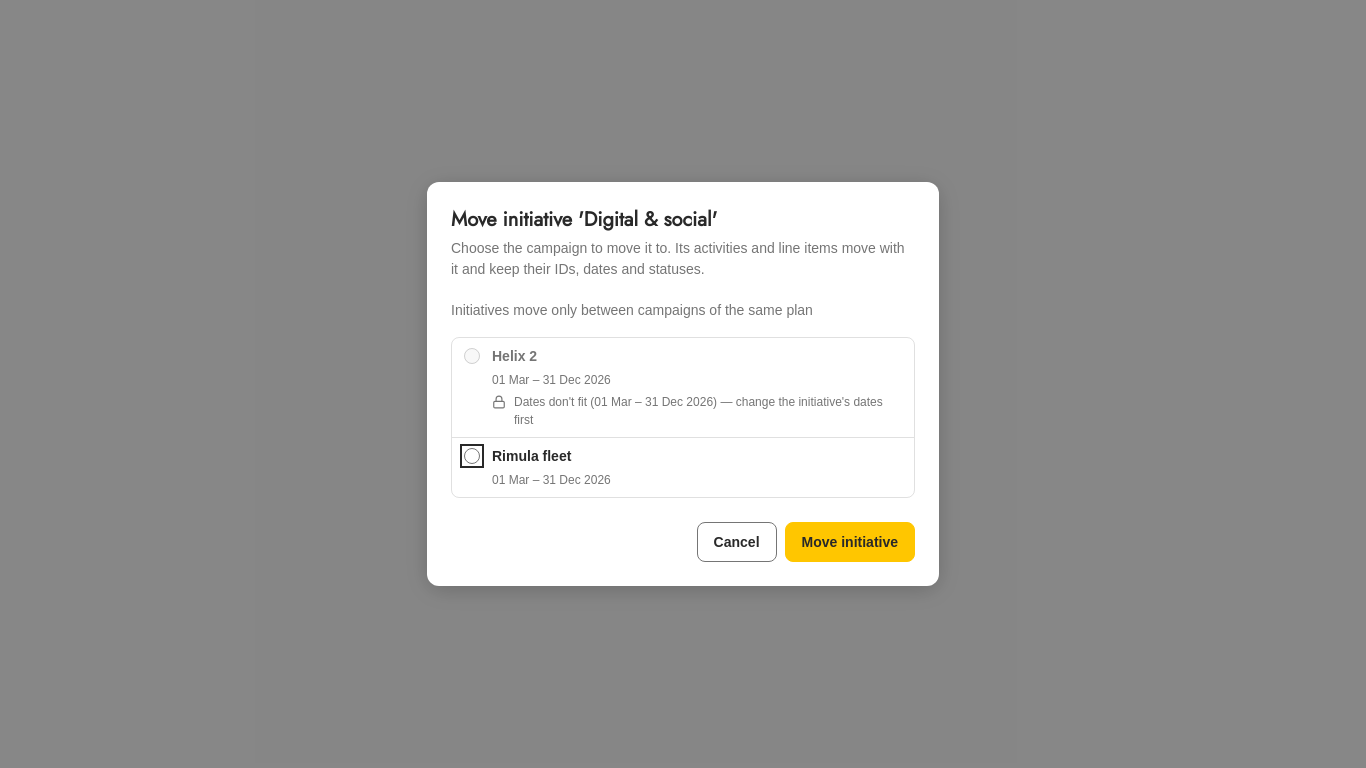
Test: MoveDialog (feature 005, US6#1–3, FR-023 – FR-025) › shows a refusal in the dialog and asks for the destinations again
The image size is (1366, 768).
Click the radio button labelled "Rimula fleet": (472, 456) [464,448,480,464]
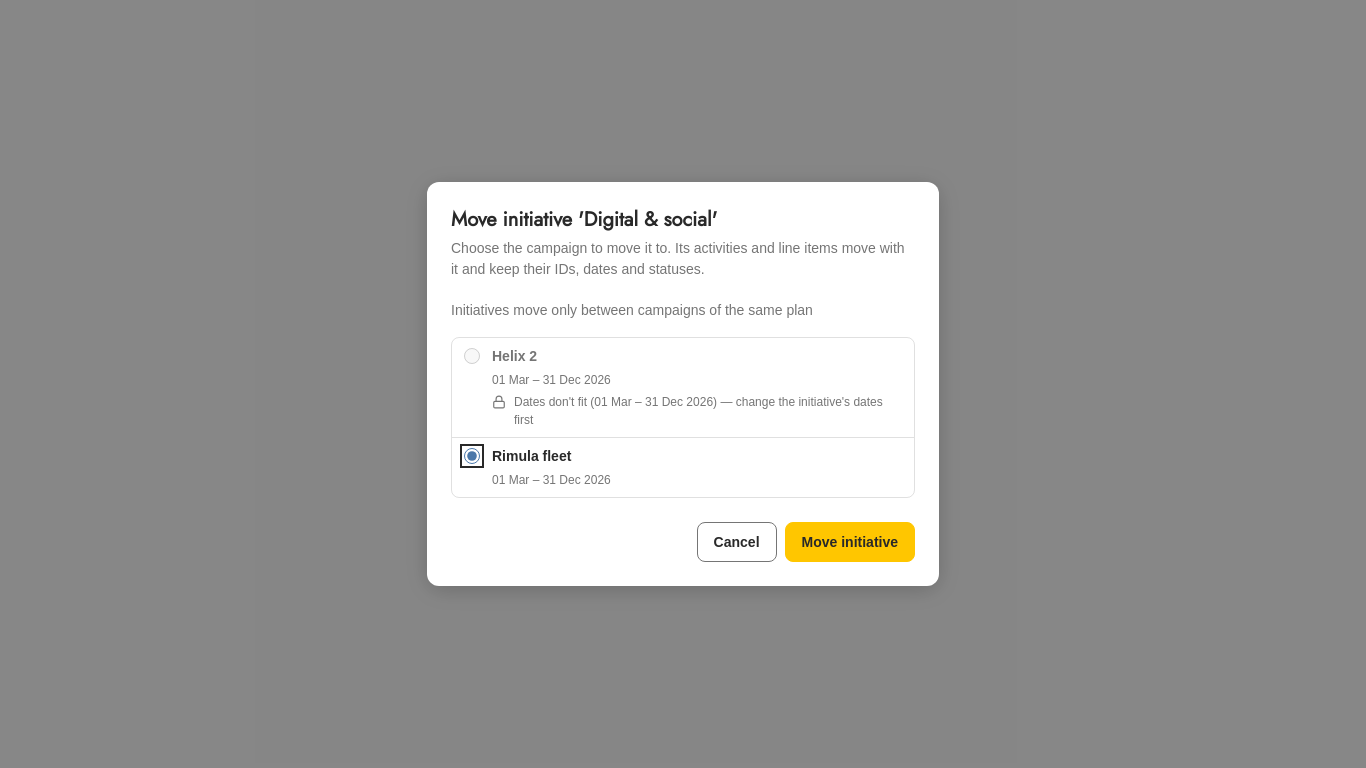
Click the button "Move initiative": (850, 542) [784,522,915,562]
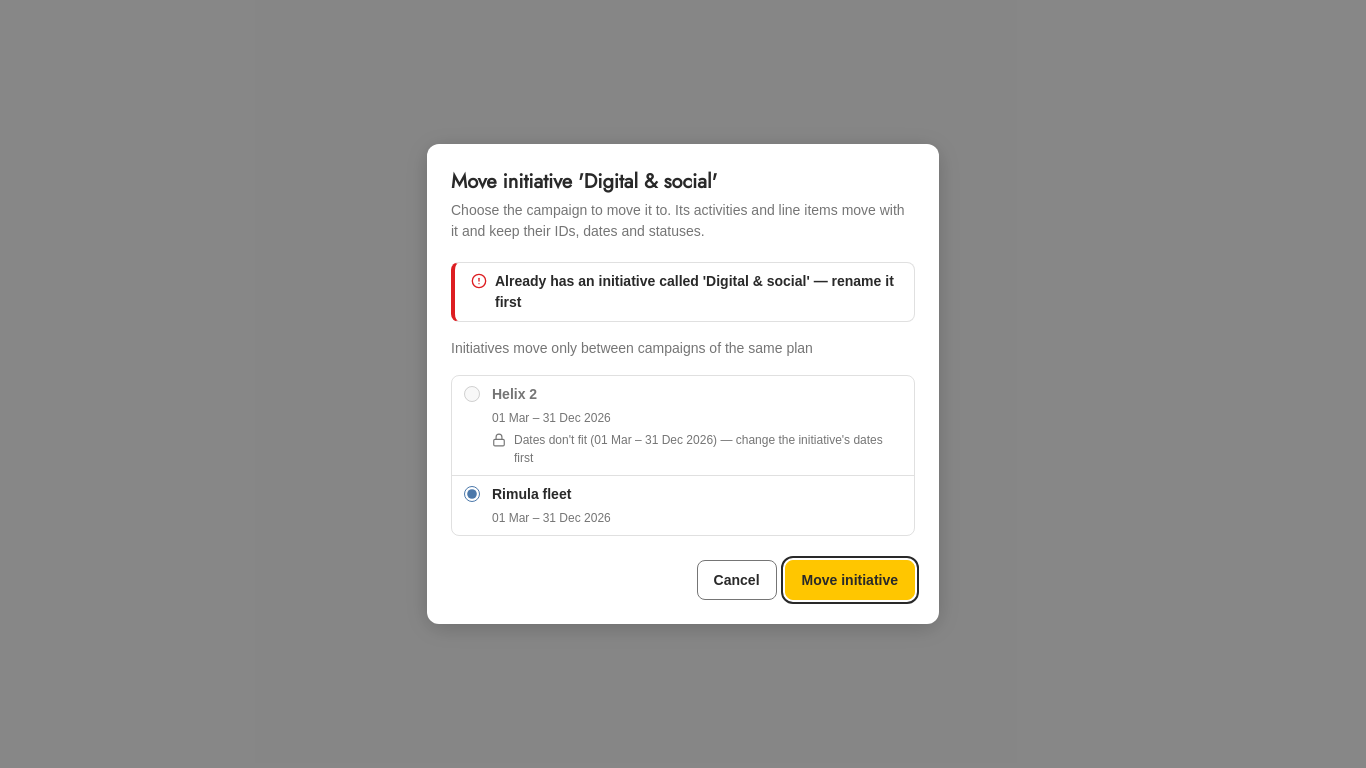
Expected: the dialog is shown, [427,144,939,624]
Expected: the message reads "Already has an initiative called 'Digital & social' — rename it first", [495,273,894,310]
